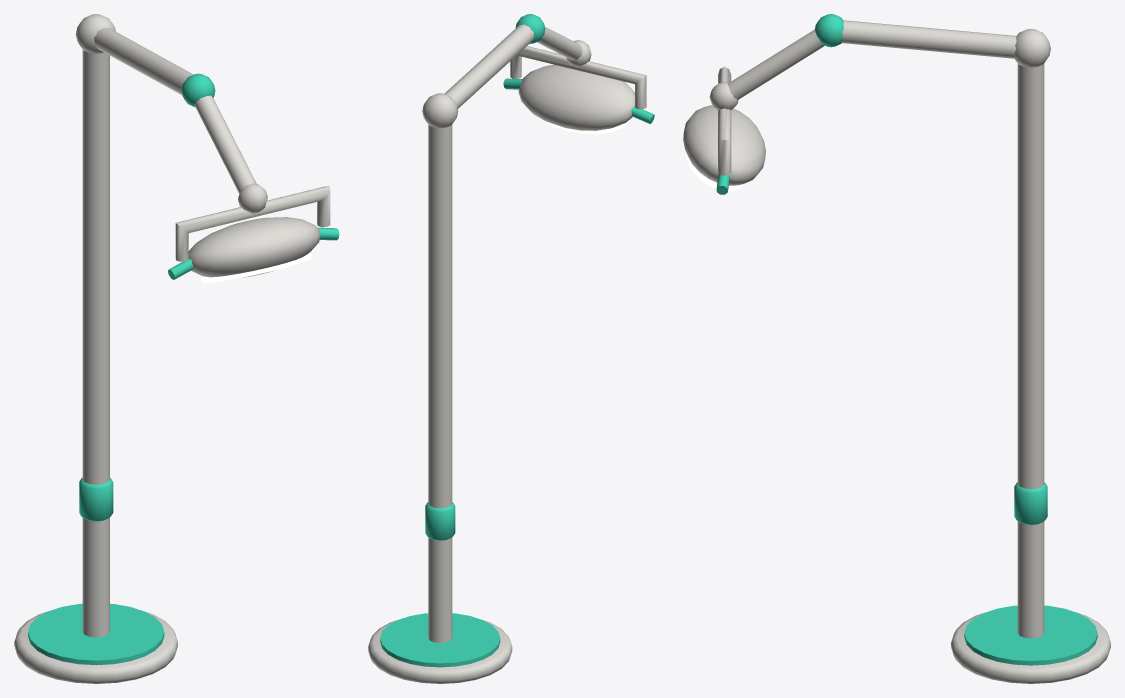
The model's file is op_lamp.glb.
3 renders of one model, left to right at view 1: azimuth 30°, elevation 25°; view 2: azimuth 150°, elevation 25°; view 3: azimuth 270°, elevation 25°, orthographic. The views are drawn at different scales.
Parts seen in each view (by area): view 1: OpLamp; view 2: OpLamp; view 3: OpLamp.
Part boxes in pixels (left/top/right/bottom): OpLamp: left=14, top=14, right=339, bottom=683; OpLamp: left=368, top=14, right=654, bottom=683; OpLamp: left=683, top=14, right=1110, bottom=683.
Bounding box in the file's own units: 0.5687 × 2.11 × 1.28.
